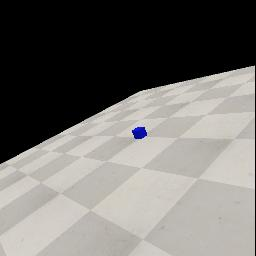box: (132, 127, 147, 139)
